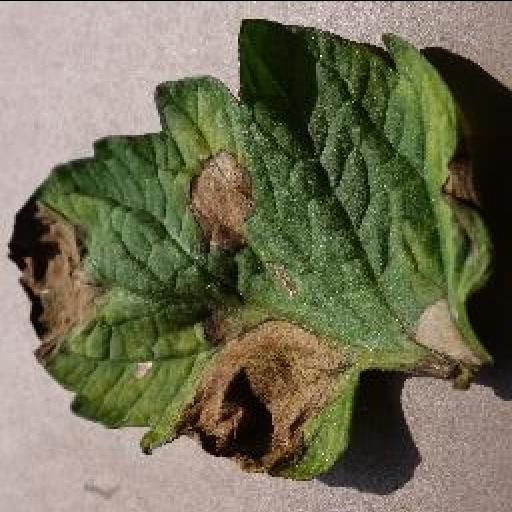disease_tomato: (4, 18, 502, 478)
